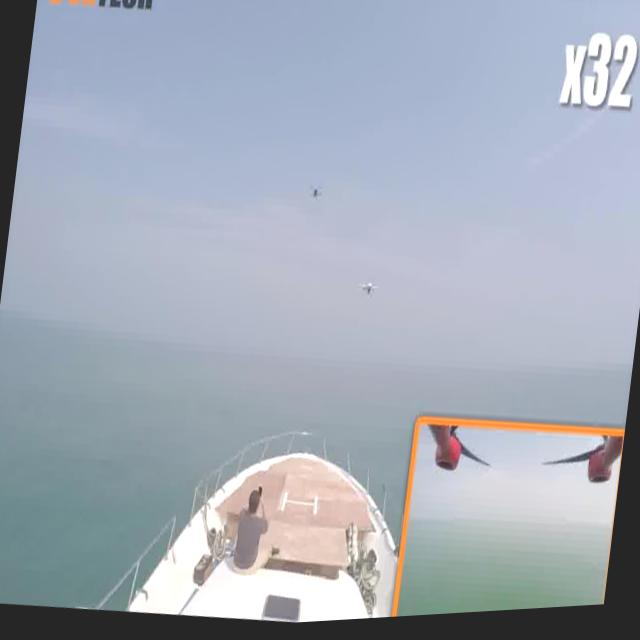drone: (352, 268, 390, 309), (304, 173, 328, 215)
